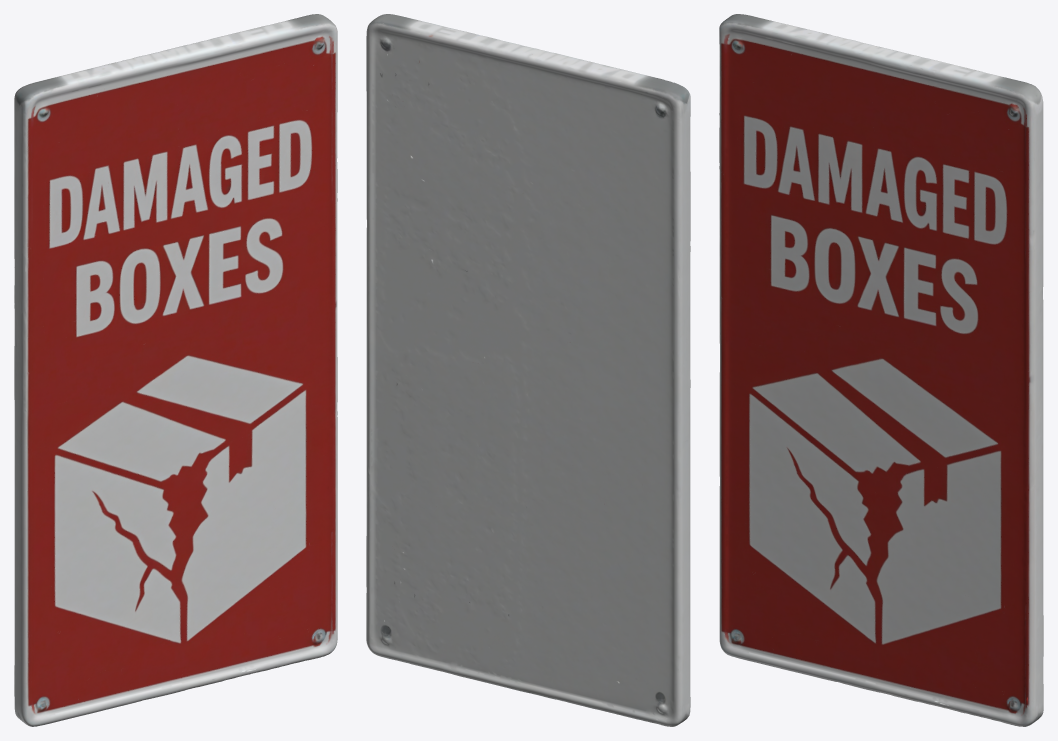
The model's file is Meshy_AI_Damaged_Boxes_0424105248_texture.obj.
3 renders of one model, left to right at view 1: azimuth 30°, elevation 25°; view 2: azimuth 150°, elevation 25°; view 3: azimuth 330°, elevation 25°, orthographic.
Visible parts, largest first — view 1: Meshy_AI_Damaged_Boxes_0424105248_texture; view 2: Meshy_AI_Damaged_Boxes_0424105248_texture; view 3: Meshy_AI_Damaged_Boxes_0424105248_texture.
Boxes of the visible parts, <box> form: Meshy_AI_Damaged_Boxes_0424105248_texture: <box>14,14,337,726</box>; Meshy_AI_Damaged_Boxes_0424105248_texture: <box>366,14,690,726</box>; Meshy_AI_Damaged_Boxes_0424105248_texture: <box>719,14,1043,726</box>.
Size of the model in its own units: 1.04 by 2 by 0.0761.
Materials: 1 (1 with a texture image).
